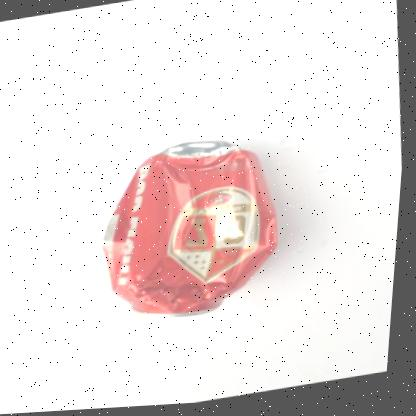Metal: (107, 143, 281, 318)
